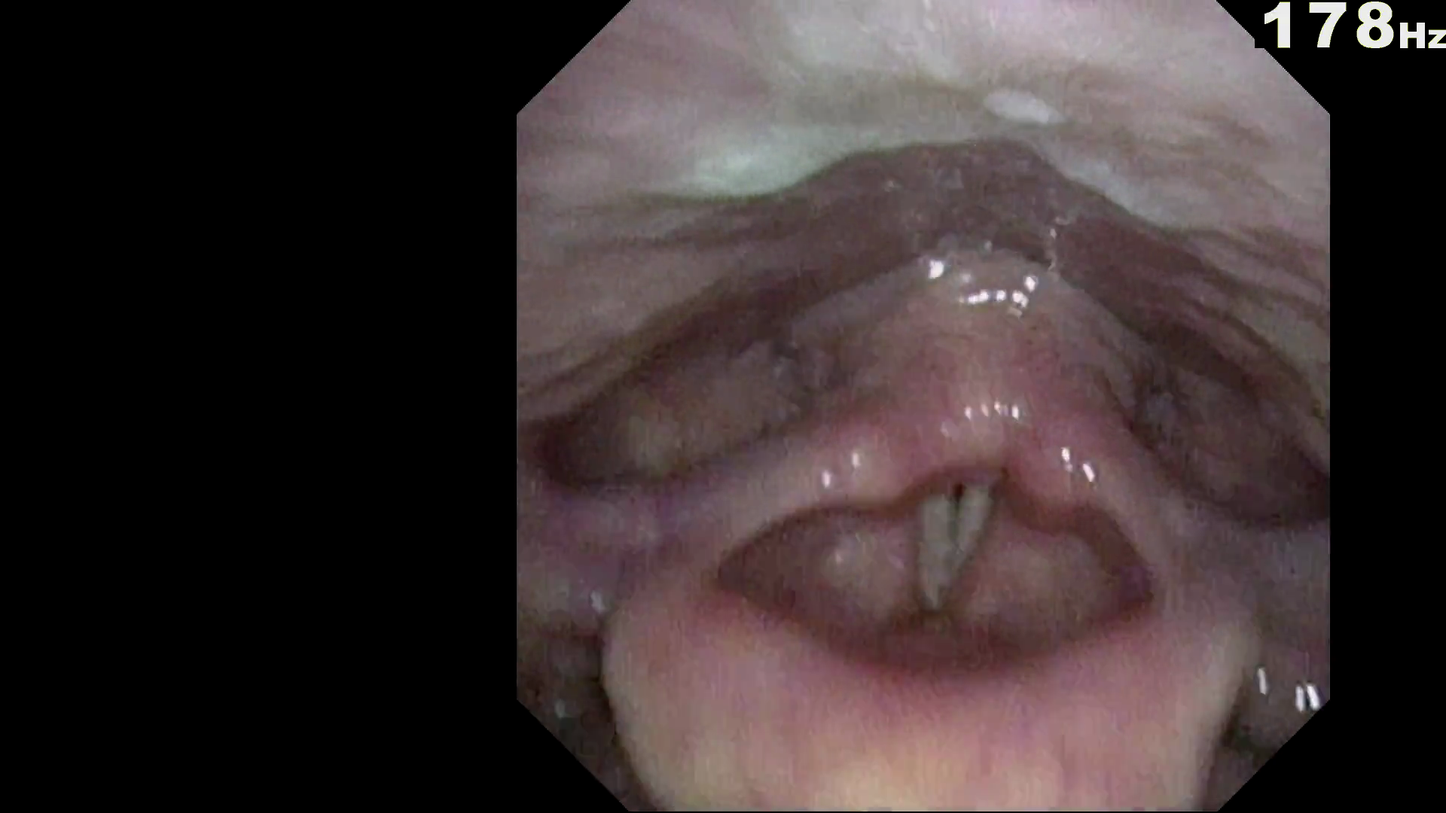epiglottis: (659, 479, 1203, 670)
trachea: (896, 440, 1051, 523)
